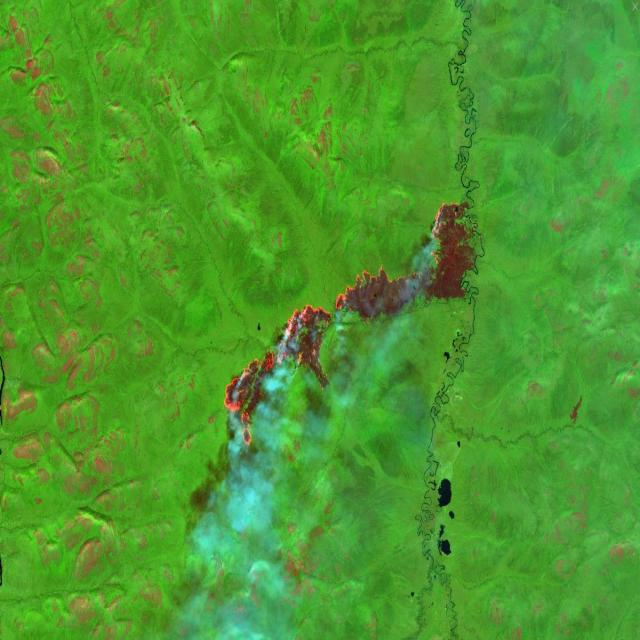fire: (219, 196, 465, 452)
